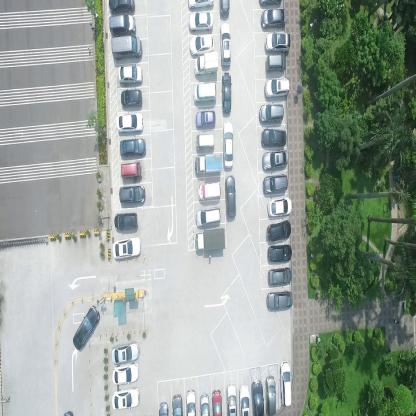car: (72, 303, 100, 351), (112, 233, 141, 259), (195, 226, 226, 250), (112, 35, 141, 60), (110, 340, 140, 364), (193, 51, 219, 77), (112, 360, 139, 385), (112, 384, 140, 408), (278, 358, 292, 405), (266, 218, 292, 243), (261, 147, 288, 171), (115, 111, 144, 133), (194, 152, 221, 175), (109, 14, 136, 36), (264, 75, 289, 98), (261, 171, 287, 193), (260, 8, 286, 30), (264, 32, 290, 54), (118, 184, 146, 204), (266, 193, 290, 216), (189, 33, 214, 55), (258, 101, 283, 123), (118, 65, 144, 86), (196, 205, 222, 226), (266, 288, 292, 309), (223, 120, 234, 169), (219, 22, 231, 66), (224, 174, 236, 218), (192, 82, 217, 103), (266, 265, 291, 286), (120, 138, 146, 158), (251, 378, 265, 415), (260, 128, 287, 147), (189, 11, 213, 32), (197, 182, 220, 203), (114, 210, 138, 229), (265, 374, 276, 415), (120, 160, 142, 180), (268, 243, 292, 261), (221, 71, 231, 113), (264, 52, 285, 72), (238, 384, 251, 416), (226, 381, 238, 415), (195, 109, 216, 128), (120, 89, 142, 107), (108, 0, 136, 14), (195, 132, 215, 150), (212, 389, 223, 415), (187, 0, 215, 10), (186, 387, 196, 415), (172, 392, 183, 416), (198, 392, 209, 415), (218, 0, 230, 17)
